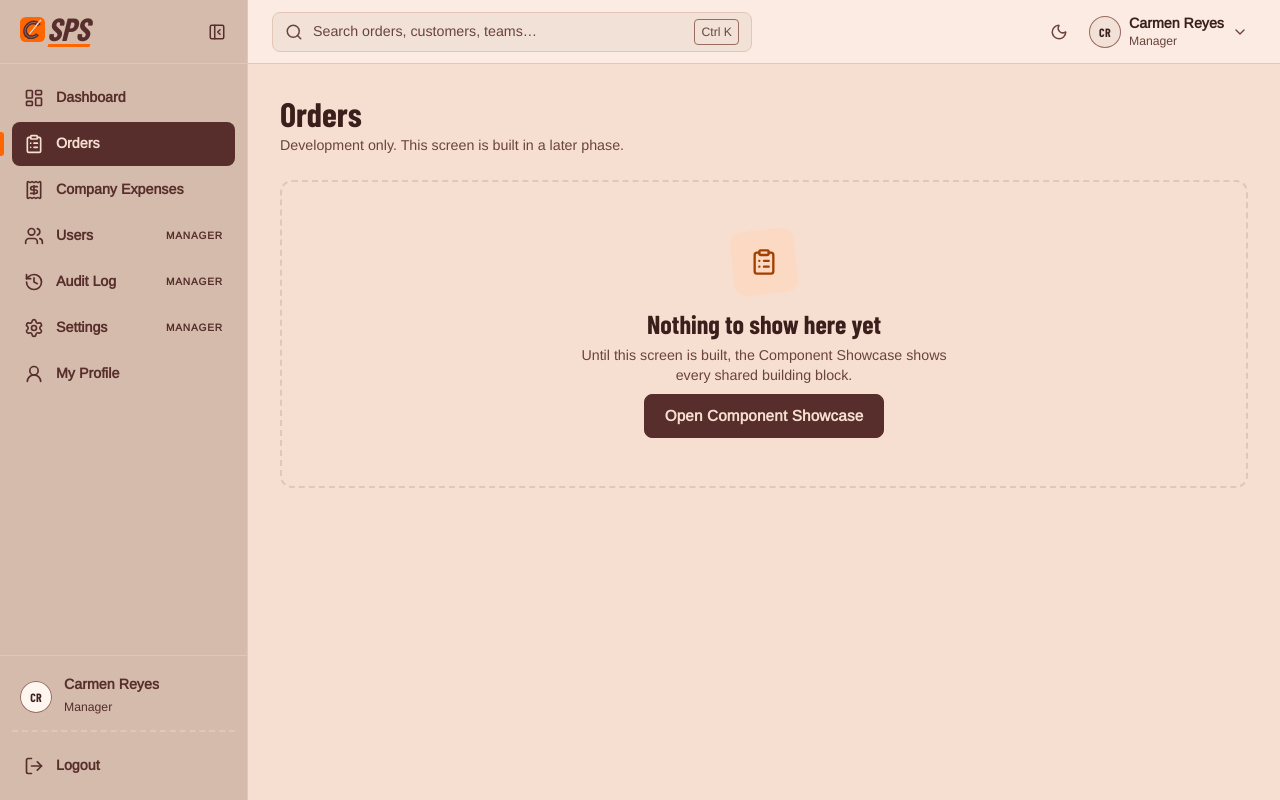
Scenario: AdminLayout landmarks and keyboard (A11Y-01, A11Y-02) › Logout signs out on the server, leaves the shell for /admin/login and shows the signed-out notice on the sign-in page
Expected: the heading "Orders" is shown, [280,93,362,134]
Click the button "Logout".
click(124, 766)  # box [12,744,235,788]
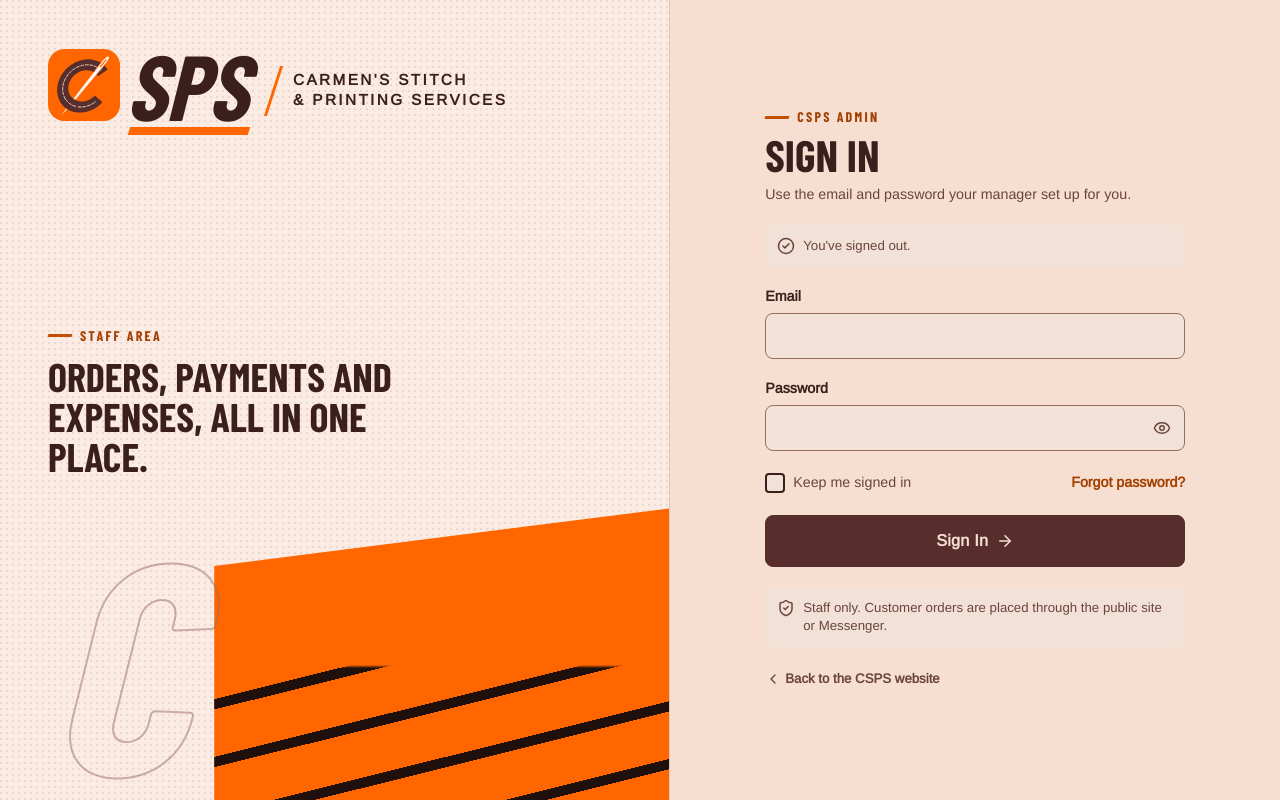
Now the message reads "You've signed out.", box [803,239,910,253]
